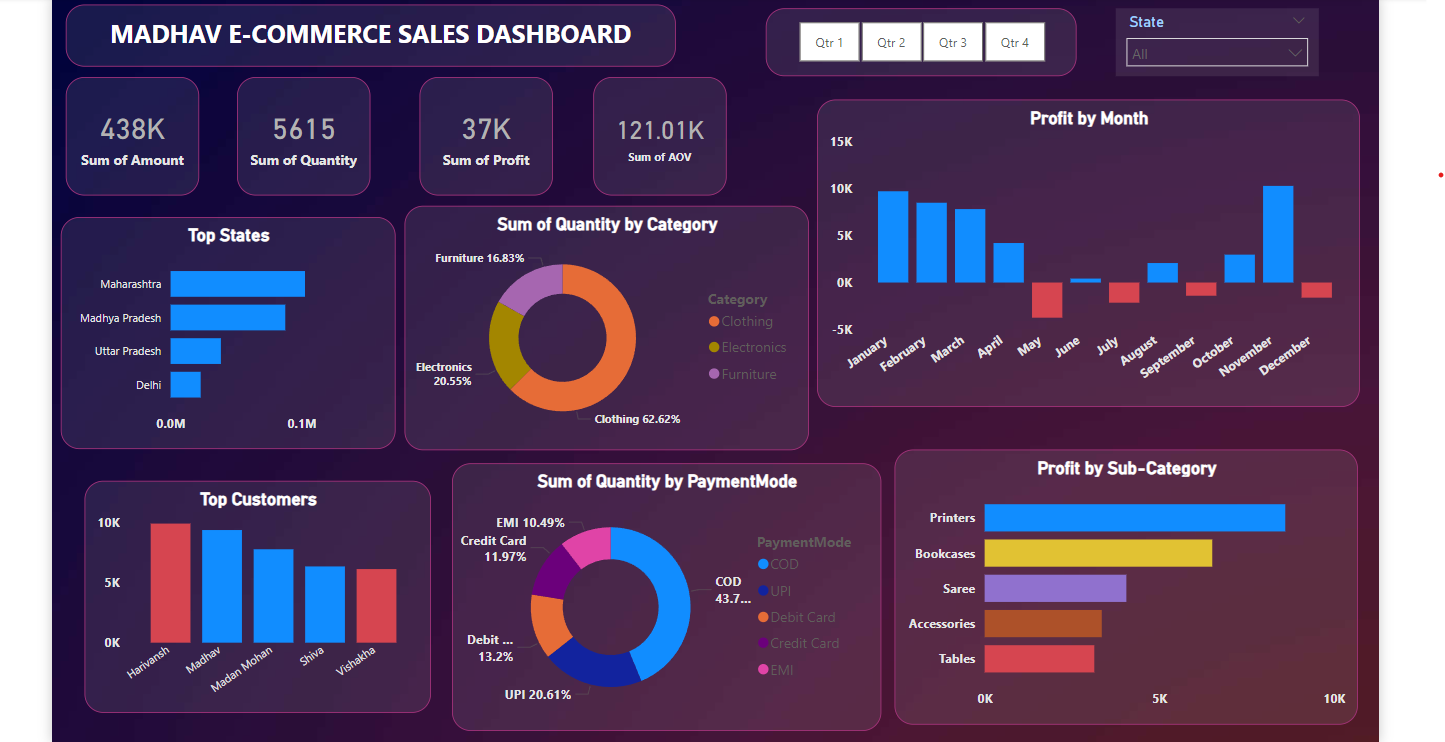

What the dashboard file says about the page in this screenshot:
{"tool":"powerbi","page":{"name":"Page 1","canvas":[1280,720],"ordinal":0},"visuals":[{"type":"textbox","box":[12.9,7.1,588.6,60],"z":0},{"type":"columnChart","title":" Profit by Month","fields":{"Category":["Orders.Order Date.Variation.Date Hierarchy.Month"],"Y":["Details.Profit"]},"box":[738.6,98.6,524.3,297.1],"z":1000},{"type":"barChart","title":"Profit by Sub-Category","fields":{"Y":["Details.Profit"],"Category":["Details.Sub-Category"]},"box":[812.9,437.1,447.1,265.7],"z":2000},{"type":"donutChart","fields":{"Category":["Details.Category"],"Y":["Details.Quantity"]},"box":[340,201.4,390,235.7],"z":3000},{"type":"donutChart","fields":{"Y":["Details.Quantity"],"Category":["Details.PaymentMode"]},"box":[385.7,450,414.3,258.6],"z":4000},{"type":"card","fields":{"Values":["Details.AOV"]},"box":[522.9,77.1,128.6,114.3],"z":5000},{"type":"card","fields":{"Values":["Details.Profit"]},"box":[354.3,77.1,128.6,114.3],"z":6000},{"type":"card","fields":{"Values":["Details.Quantity"]},"box":[178.6,77.1,128.6,114.3],"z":7000},{"type":"card","fields":{"Values":["Details.Amount"]},"box":[12.9,77.1,128.6,114.3],"z":8000},{"type":"barChart","title":"Top States","fields":{"Y":["Details.Amount"],"Category":["Orders.State"]},"box":[8.6,212.9,322.9,224.3],"z":9000},{"type":"columnChart","title":"Top Customers","fields":{"Y":["Details.Amount"],"Category":["Orders.CustomerName"]},"box":[31.4,467.1,334.3,224.3],"z":10000},{"type":"slicer","fields":{"Values":["Orders.Order Date.Variation.Date Hierarchy.Quarter"]},"box":[688.6,11.4,300,65.7],"z":11000},{"type":"slicer","fields":{"Values":["Orders.State"]},"box":[1027.1,11.4,195.7,65.7],"z":11001}]}

Visuals, with their boxes on the page's 1280x720 design canvas (x1, y1, x2, y2). These are canvas units, not pixel positions in the 1445x742 screenshot, which may show the page scaled, cropped or inside an application window:
textbox: crop(13, 7, 602, 67)
" Profit by Month" columnChart: crop(739, 99, 1263, 396)
"Profit by Sub-Category" barChart: crop(813, 437, 1260, 703)
donutChart - Details.Category x Details.Quantity: crop(340, 201, 730, 437)
donutChart - Details.Quantity x Details.PaymentMode: crop(386, 450, 800, 709)
card - Details.AOV: crop(523, 77, 652, 191)
card - Details.Profit: crop(354, 77, 483, 191)
card - Details.Quantity: crop(179, 77, 307, 191)
card - Details.Amount: crop(13, 77, 142, 191)
"Top States" barChart: crop(9, 213, 332, 437)
"Top Customers" columnChart: crop(31, 467, 366, 691)
slicer - Orders.Order Date.Variation.Date Hierarchy.Quarter: crop(689, 11, 989, 77)
slicer - Orders.State: crop(1027, 11, 1223, 77)
